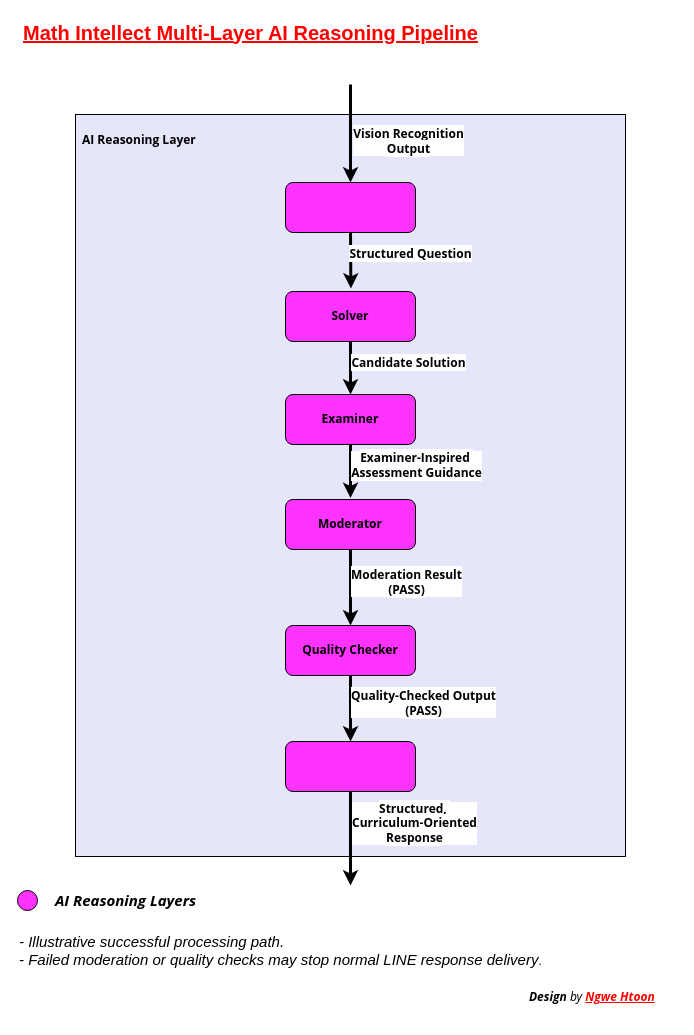
Image size: 694x1035. Some labels were removed from this diagram. Each missing label, with the centre of its shape:
Formatter (Formatting Engine): pixel 350 766
Question Analyzer: pixel 350 207
